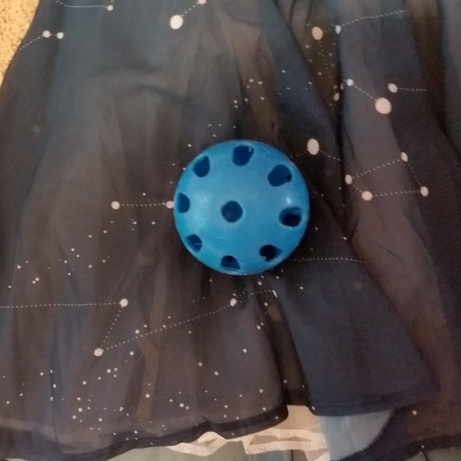ball: (168, 135, 313, 280)
